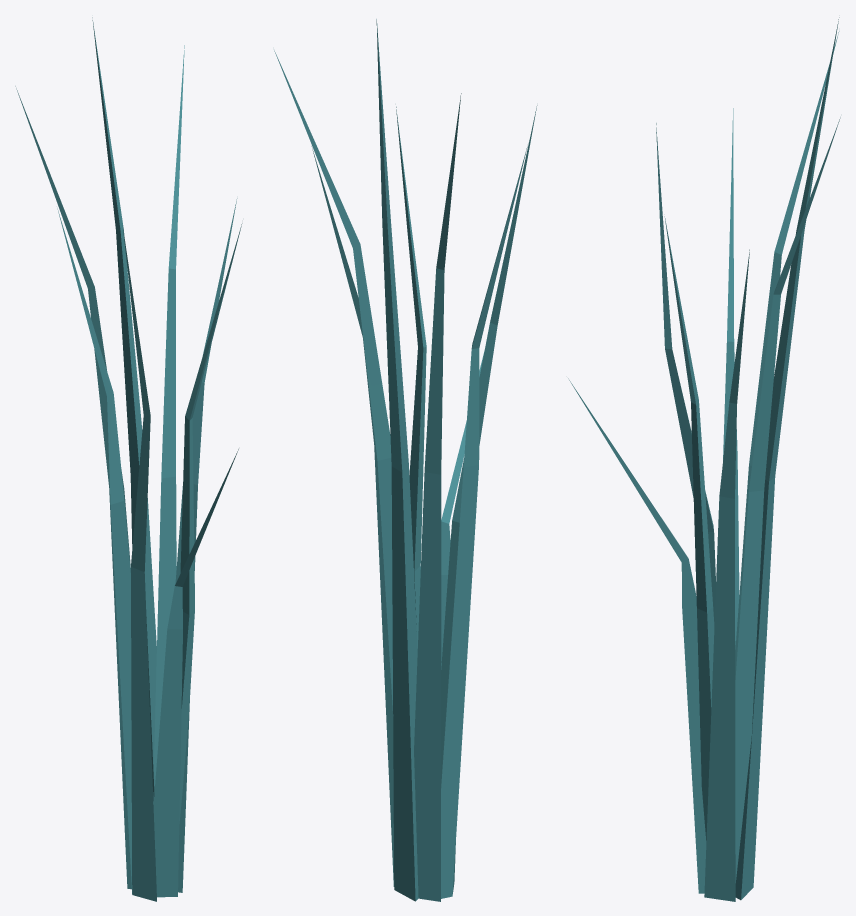
File: Grass_5_Blue.fbx
The picture shows the model from 3 angles, left to right: view 1: azimuth 30°, elevation 25°; view 2: azimuth 150°, elevation 25°; view 3: azimuth 270°, elevation 25°; orthographic projection. The views are drawn at different scales.
Parts seen in each view (by area): view 1: Grass_5_Blue; view 2: Grass_5_Blue; view 3: Grass_5_Blue.
Part boxes in pixels (<box>): Grass_5_Blue: <box>15,17,242,901</box>; Grass_5_Blue: <box>274,19,537,901</box>; Grass_5_Blue: <box>568,17,840,901</box>.
Bounding box in the file's own units: 23.91 × 101 × 28.97.
